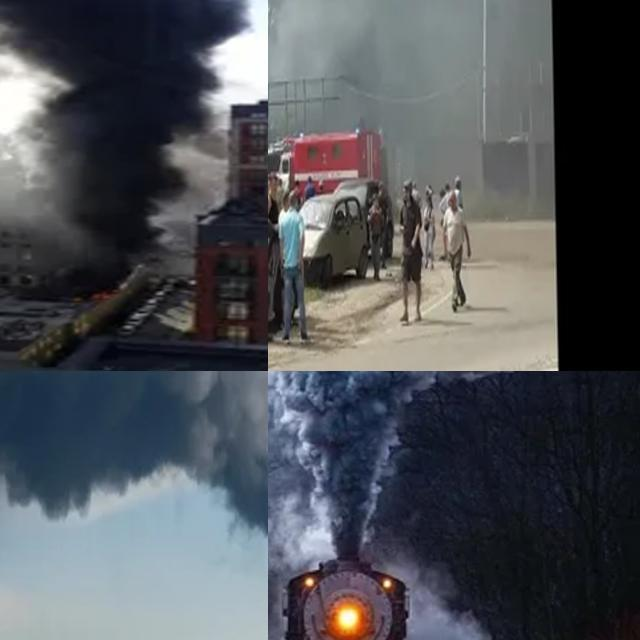smoke: (0, 371, 268, 640), (0, 0, 257, 258), (268, 371, 620, 551), (268, 0, 552, 180)
